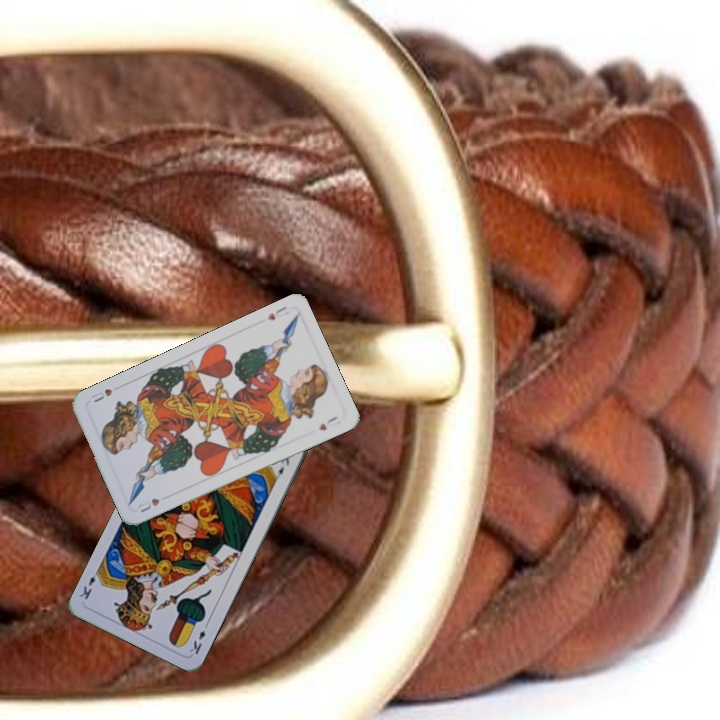EK: (185, 618, 211, 657)
HU: (133, 494, 162, 515), (263, 302, 289, 323)
